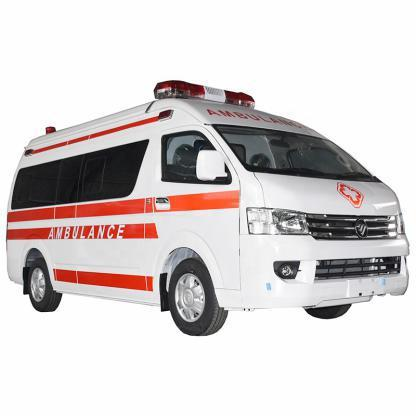Ambulance - v1 Ambulance last generate: (0, 80, 414, 331)
